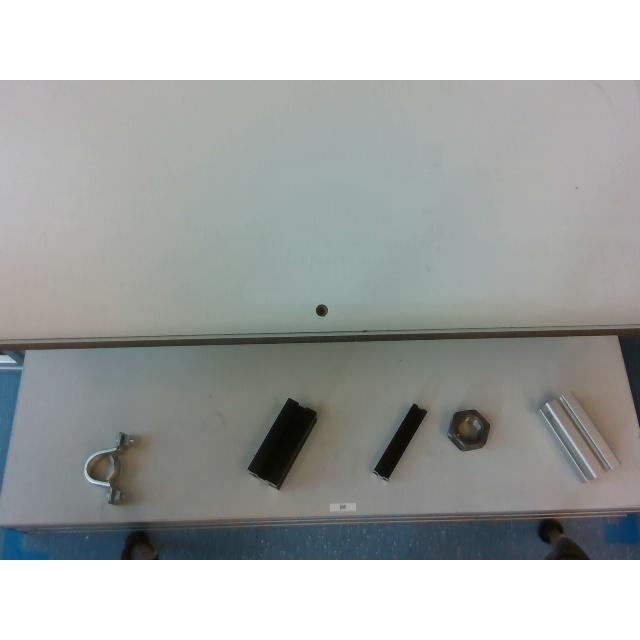F20_20_B: (374, 404, 426, 481)
Housing: (82, 433, 134, 503)
M30: (448, 410, 488, 450)
S40_40_B: (248, 398, 316, 489)
S40_40_G: (539, 393, 619, 481)
